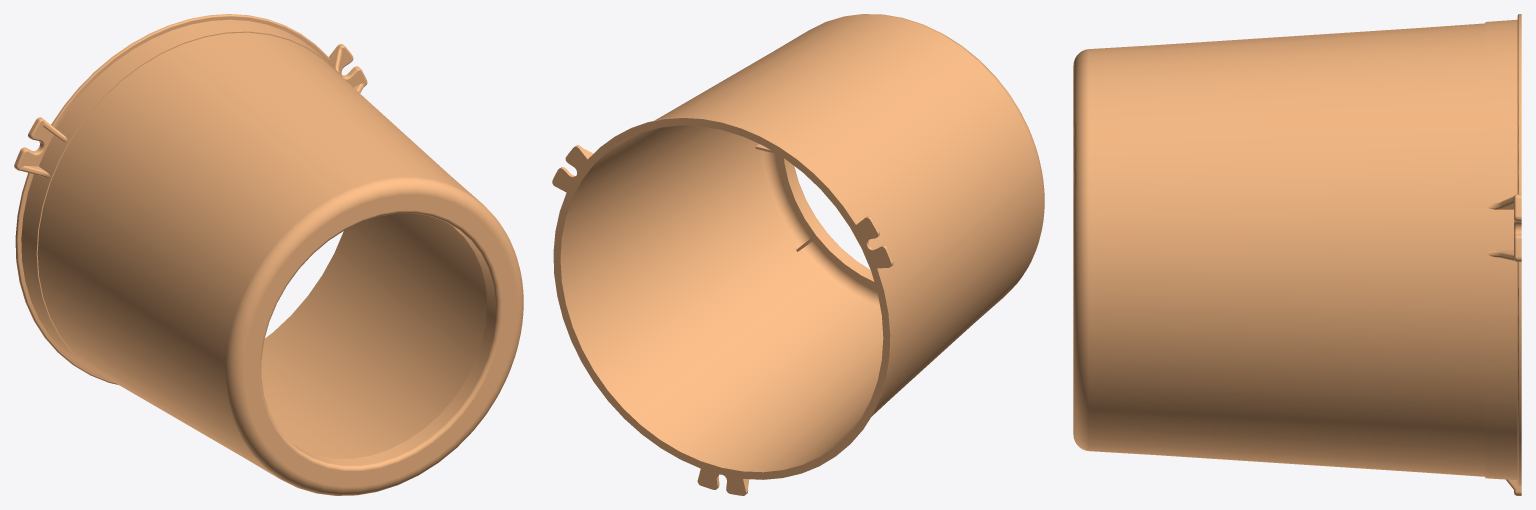
File: Bucket (2.19.30).gltf
3 renders of one model, left to right at view 1: azimuth 30°, elevation 25°; view 2: azimuth 150°, elevation 25°; view 3: azimuth 270°, elevation 25°, orthographic. The views are drawn at different scales.
Parts seen in each view (by area): view 1: Bucket (2.19.30); view 2: Bucket (2.19.30); view 3: Bucket (2.19.30).
Part boxes in pixels (x1,y1,x2,y2): Bucket (2.19.30): [14, 14, 523, 495]; Bucket (2.19.30): [552, 14, 1044, 495]; Bucket (2.19.30): [1073, 14, 1521, 495].
Bounding box in the file's own units: 0.2697 × 0.2806 × 0.254.
